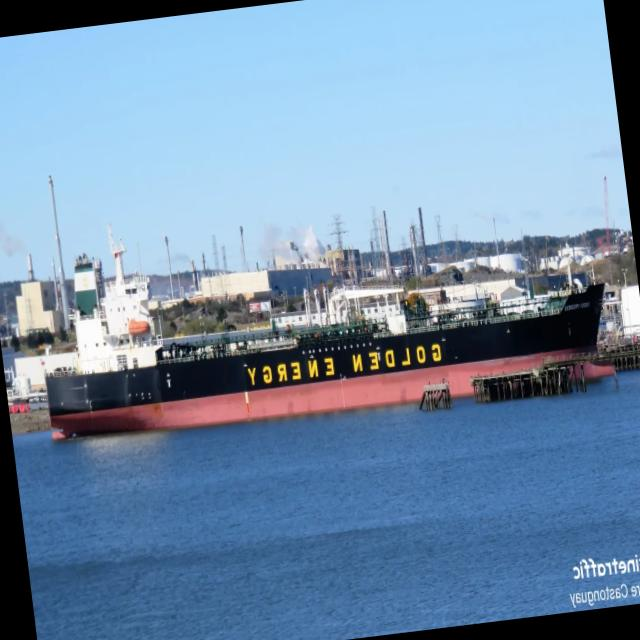Tanker: (45, 230, 603, 437)
